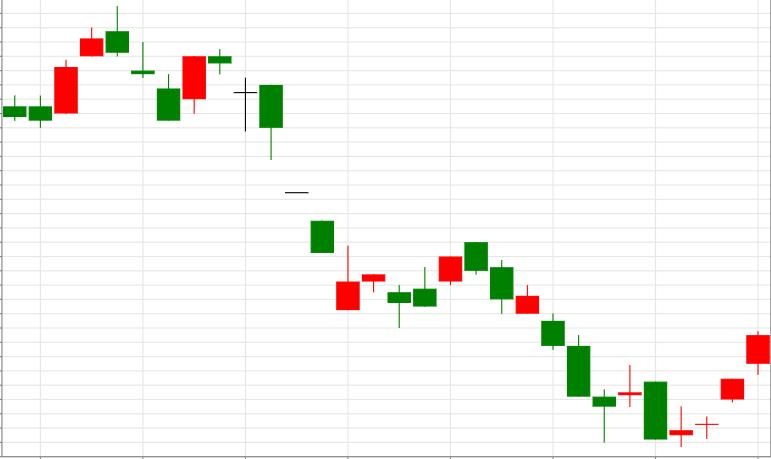inverse_hammer_rise: (208, 48, 360, 311)
